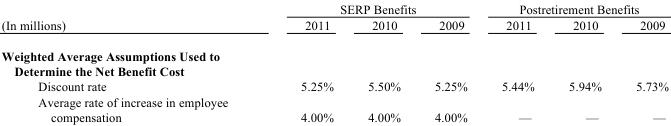table: (0, 1, 667, 123)
table column: (0, 1, 263, 123), (263, 1, 350, 123), (416, 1, 483, 123), (483, 1, 550, 123), (550, 1, 617, 123), (350, 1, 416, 123), (617, 1, 667, 123)
table column header: (0, 1, 667, 40)
table projected row header: (0, 40, 667, 78)
table row: (0, 40, 667, 78), (0, 93, 667, 123), (0, 16, 667, 40), (0, 1, 667, 16), (0, 78, 667, 93)
table spanning cell: (0, 1, 263, 40), (263, 1, 483, 16), (483, 1, 667, 16)
